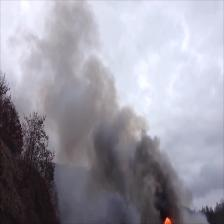fire: (164, 216, 172, 224)
smoke: (50, 21, 88, 140), (120, 122, 150, 223), (92, 85, 117, 183), (153, 162, 175, 212)
